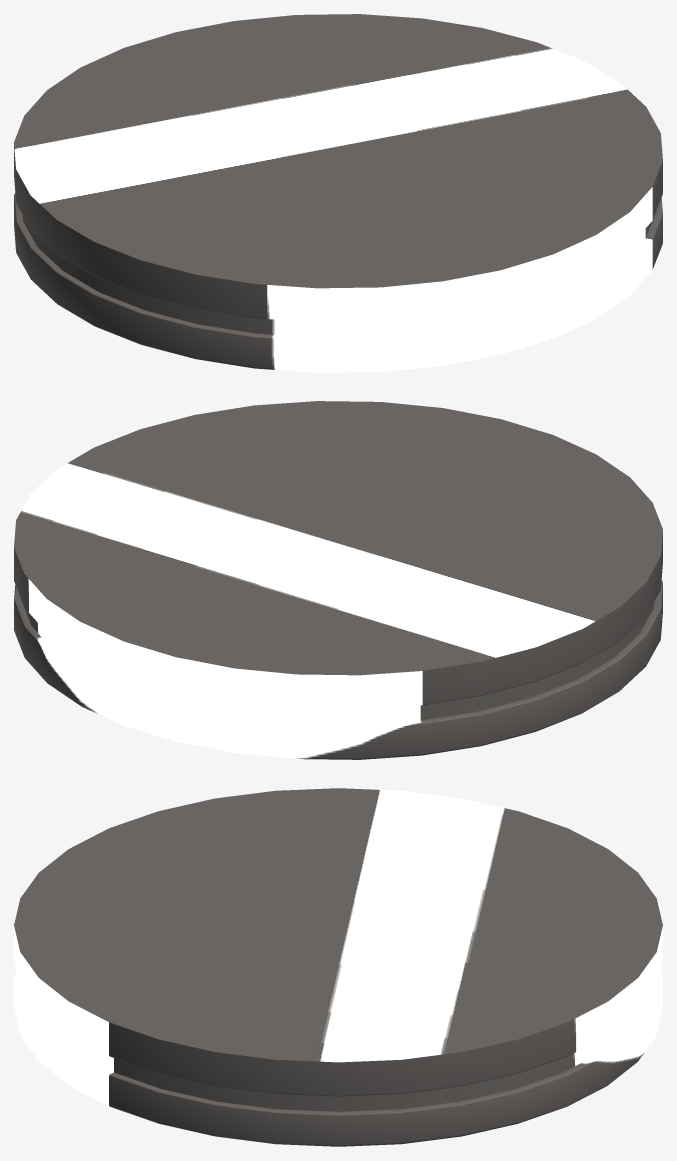
The model's file is lights_on.glb.
The picture shows the model from 3 angles, top to bottom: view 1: azimuth 30°, elevation 25°; view 2: azimuth 150°, elevation 25°; view 3: azimuth 270°, elevation 25°; orthographic projection.
Visible parts, largest first — view 1: lamp_01; view 2: lamp_01; view 3: lamp_01.
Part boxes in pixels (left/top/right/bottom): lamp_01: left=14, top=14, right=662, bottom=372; lamp_01: left=14, top=401, right=662, bottom=759; lamp_01: left=14, top=788, right=662, bottom=1146.
Bounding box in the file's own units: 2 × 0.2903 × 2.
Materials: 1 (1 with a texture image).
